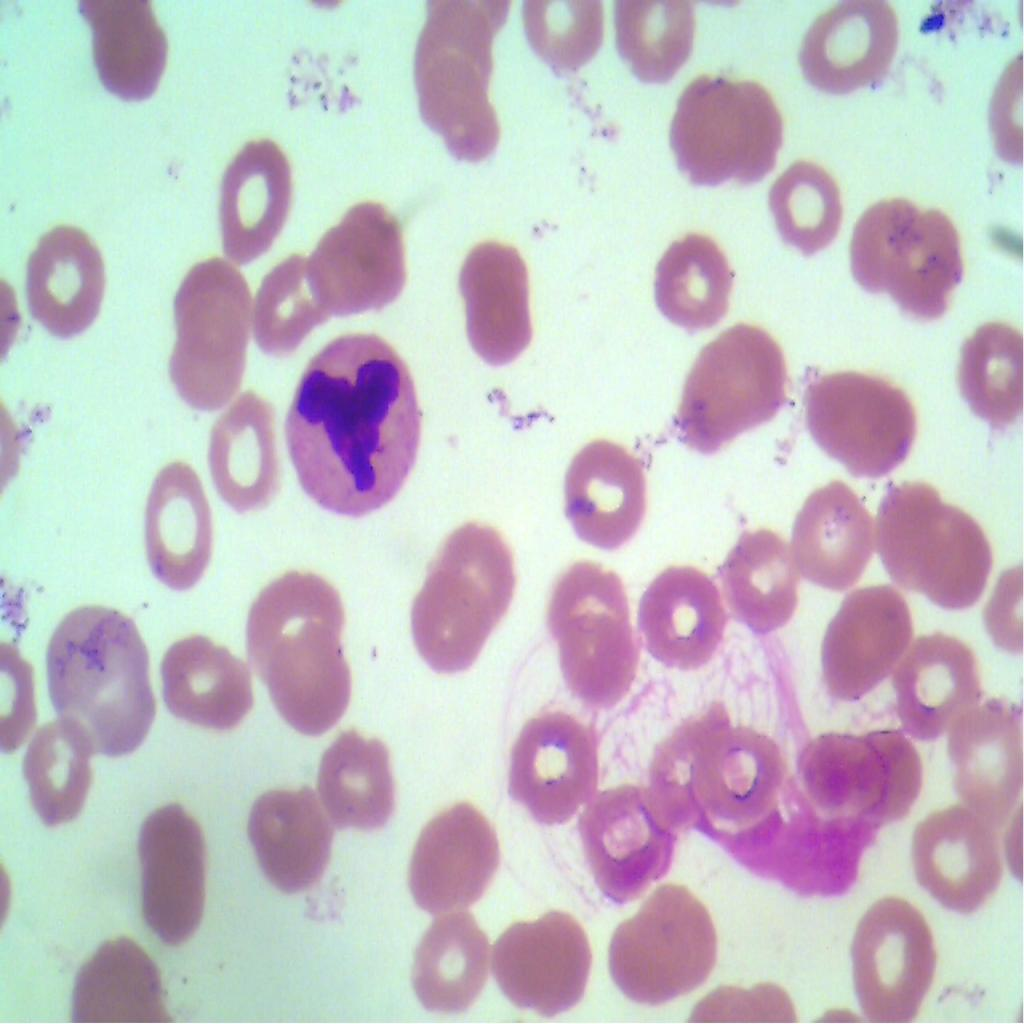Eritrosit: (46, 595, 156, 764), (674, 315, 795, 452), (606, 881, 724, 1001), (809, 355, 918, 481), (449, 228, 544, 371), (488, 901, 599, 1018), (546, 565, 640, 702), (811, 575, 915, 698), (129, 797, 213, 945), (313, 204, 421, 319), (400, 785, 502, 906), (844, 891, 938, 1022), (689, 715, 789, 834), (574, 782, 674, 900), (551, 424, 646, 548), (154, 621, 256, 734), (502, 707, 595, 829), (209, 132, 295, 262), (910, 797, 1006, 912), (666, 67, 750, 194), (28, 218, 114, 341), (250, 566, 344, 678), (788, 468, 878, 584), (649, 702, 731, 829), (404, 575, 496, 687), (799, 0, 908, 94), (138, 458, 218, 586), (638, 561, 733, 666), (206, 388, 286, 511), (246, 774, 328, 894), (944, 702, 1023, 825), (270, 621, 356, 732), (164, 308, 255, 411), (426, 64, 510, 175), (66, 930, 166, 1023), (761, 148, 846, 255), (89, 0, 175, 105), (406, 908, 491, 1014), (892, 641, 982, 741), (656, 228, 738, 335), (318, 725, 402, 829), (718, 530, 808, 627), (891, 218, 969, 328), (433, 514, 515, 615), (866, 471, 946, 574), (850, 718, 926, 825), (924, 518, 998, 622), (249, 245, 323, 348), (174, 255, 251, 351), (523, 0, 614, 81), (718, 86, 792, 184), (843, 192, 919, 285), (414, 5, 496, 91), (613, 0, 696, 84), (795, 731, 878, 815), (955, 319, 1023, 421), (28, 712, 90, 820)
Neutrofil: (284, 325, 429, 524)
